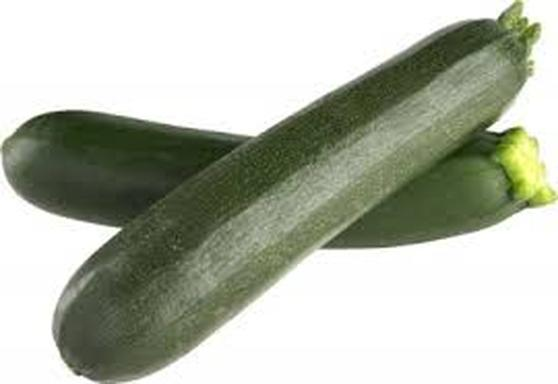zucchini: (1, 94, 558, 256)
